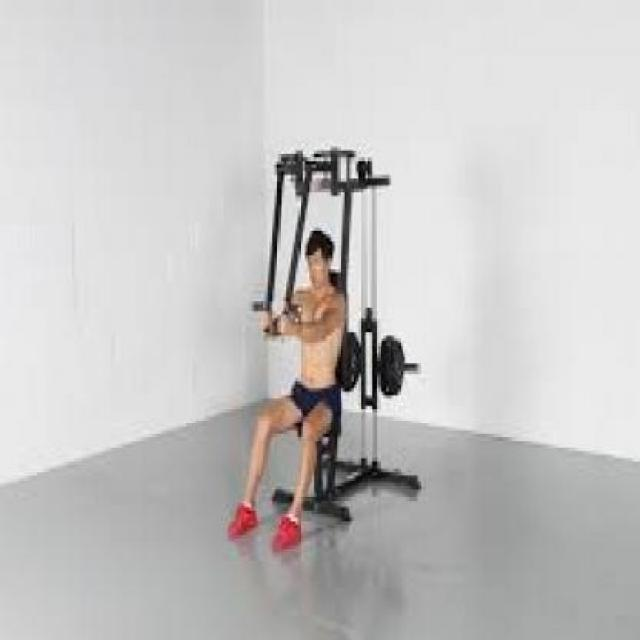chest fly machine: (220, 101, 454, 578)
